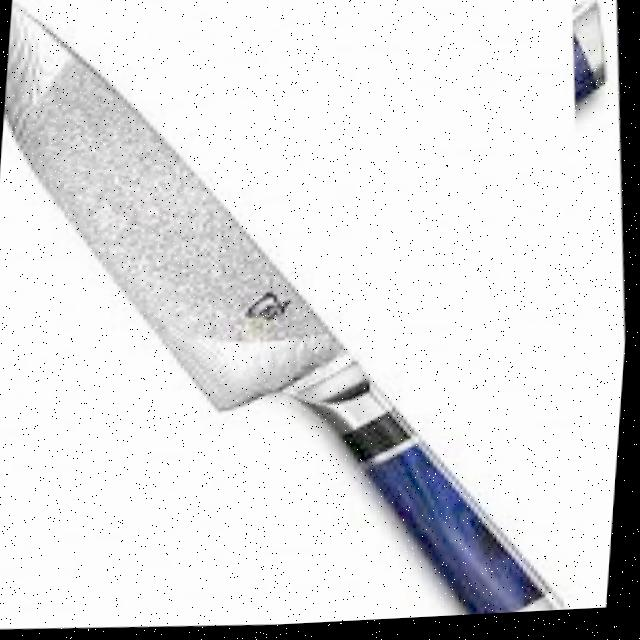knife: (0, 0, 613, 640)
